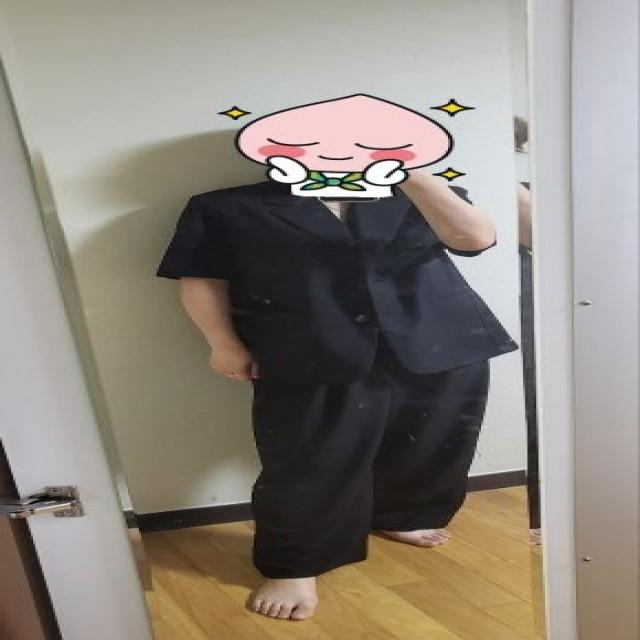blazer: (165, 172, 528, 374)
slacks: (250, 307, 504, 581)
